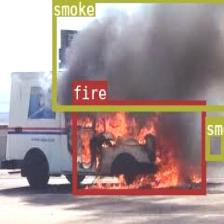fire: (71, 99, 205, 194)
smoke: (52, 0, 224, 111), (205, 116, 224, 159)
